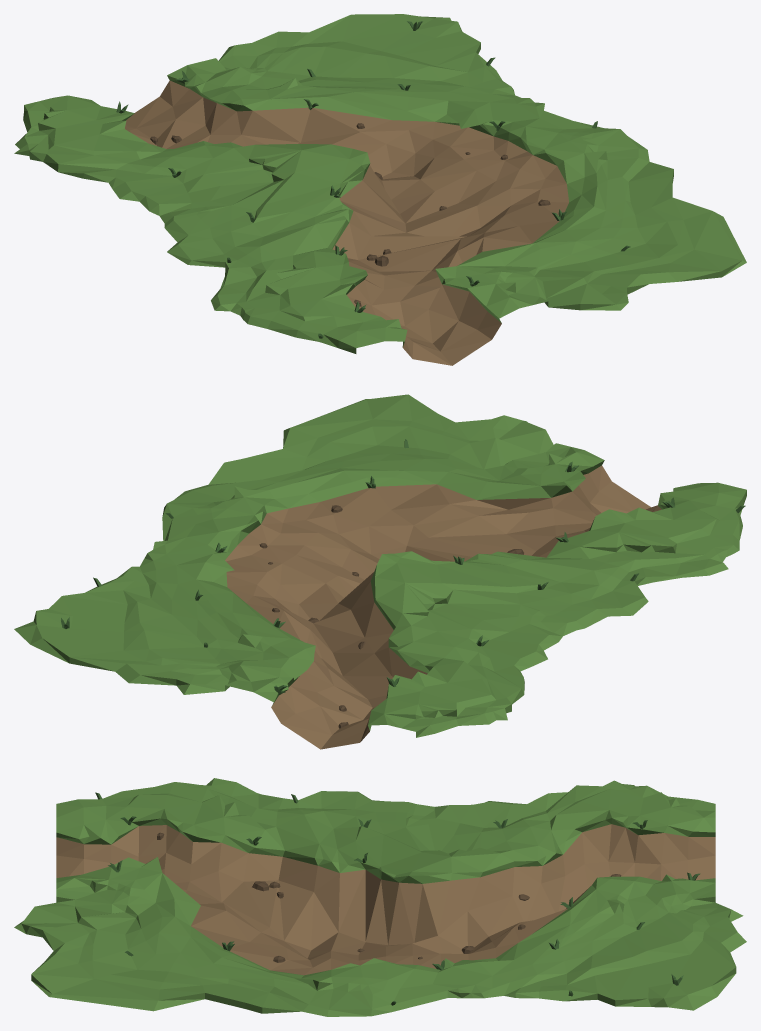
File: SM_Env_Stream_Straight_02.fbx
3 renders of one model, top to bottom at view 1: azimuth 30°, elevation 25°; view 2: azimuth 150°, elevation 25°; view 3: azimuth 270°, elevation 25°, orthographic.
Parts seen in each view (by area): view 1: SM_Env_Stream_Straight_02; view 2: SM_Env_Stream_Straight_02; view 3: SM_Env_Stream_Straight_02.
Part boxes in pixels (<box>): SM_Env_Stream_Straight_02: <box>14,14,746,365</box>; SM_Env_Stream_Straight_02: <box>14,394,746,749</box>; SM_Env_Stream_Straight_02: <box>14,778,746,1016</box>.
Bounding box in the file's own units: 0.1276 × 0.0153 × 0.1668.
Materials: 1 (1 with a texture image).
